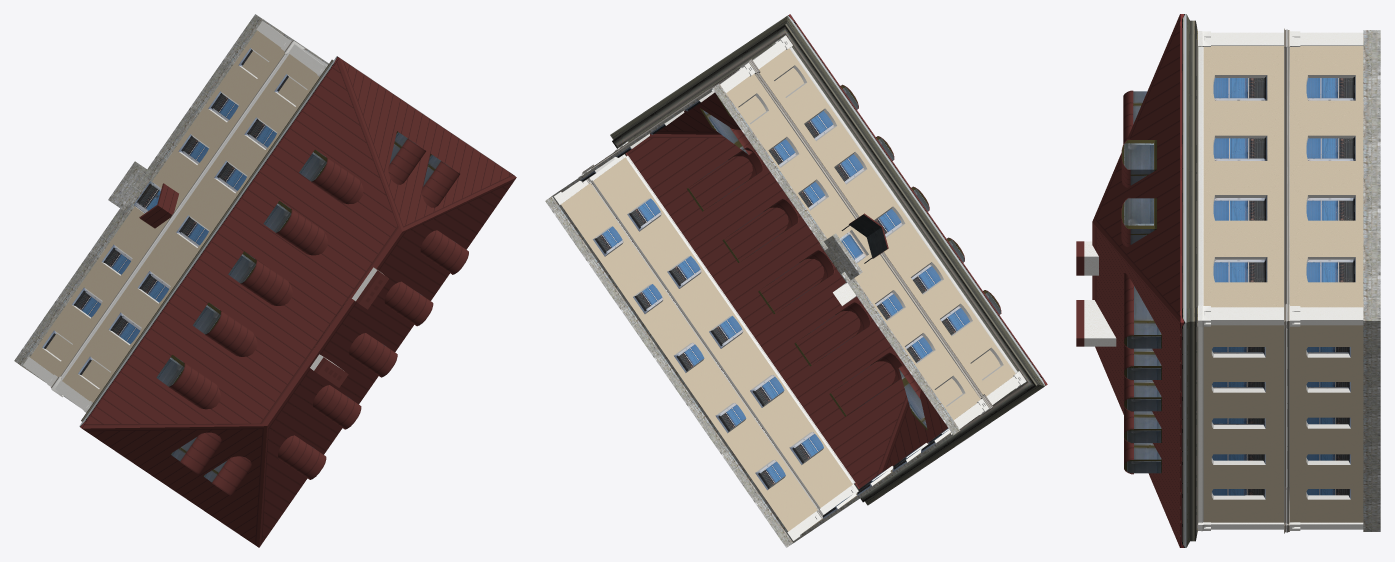
File: Suurtyki_4b.obj
The picture shows the model from 3 angles, left to right: view 1: azimuth 30°, elevation 25°; view 2: azimuth 150°, elevation 25°; view 3: azimuth 270°, elevation 25°; orthographic projection. The views are drawn at different scales.
Visible parts, largest first — view 1: Suurtyki_4b; view 2: Suurtyki_4b; view 3: Suurtyki_4b.
Part boxes in pixels (<box>): Suurtyki_4b: <box>14,14,516,547</box>; Suurtyki_4b: <box>545,14,1047,547</box>; Suurtyki_4b: <box>1076,14,1380,547</box>.
Size of the model in its own units: 25.63 by 26.49 by 12.54.
